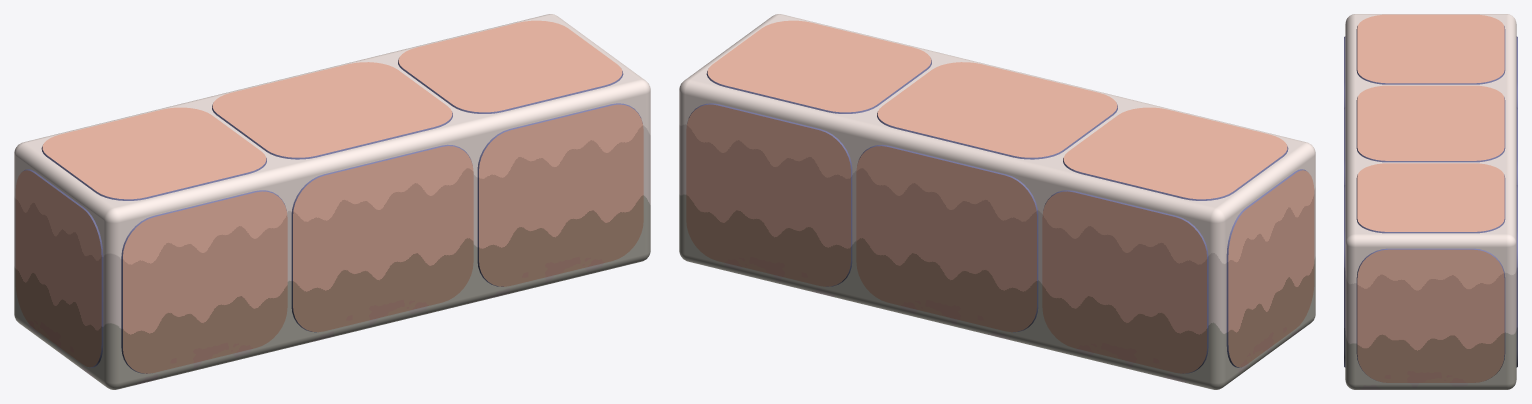
Rendered from R4B_Beam3.glb.
The picture shows the model from 3 angles, left to right: view 1: azimuth 30°, elevation 25°; view 2: azimuth 150°, elevation 25°; view 3: azimuth 270°, elevation 25°; orthographic projection. The views are drawn at different scales.
Visible parts, largest first — view 1: R4B_Beam3; view 2: R4B_Beam3; view 3: R4B_Beam3.
Boxes of the visible parts, bbox=[...] form: R4B_Beam3: bbox=[14, 14, 650, 389]; R4B_Beam3: bbox=[679, 14, 1315, 389]; R4B_Beam3: bbox=[1344, 14, 1517, 389].
Size of the model in its own units: 1.62 by 0.52 by 0.52.
Materials: 3 (3 with a texture image).
